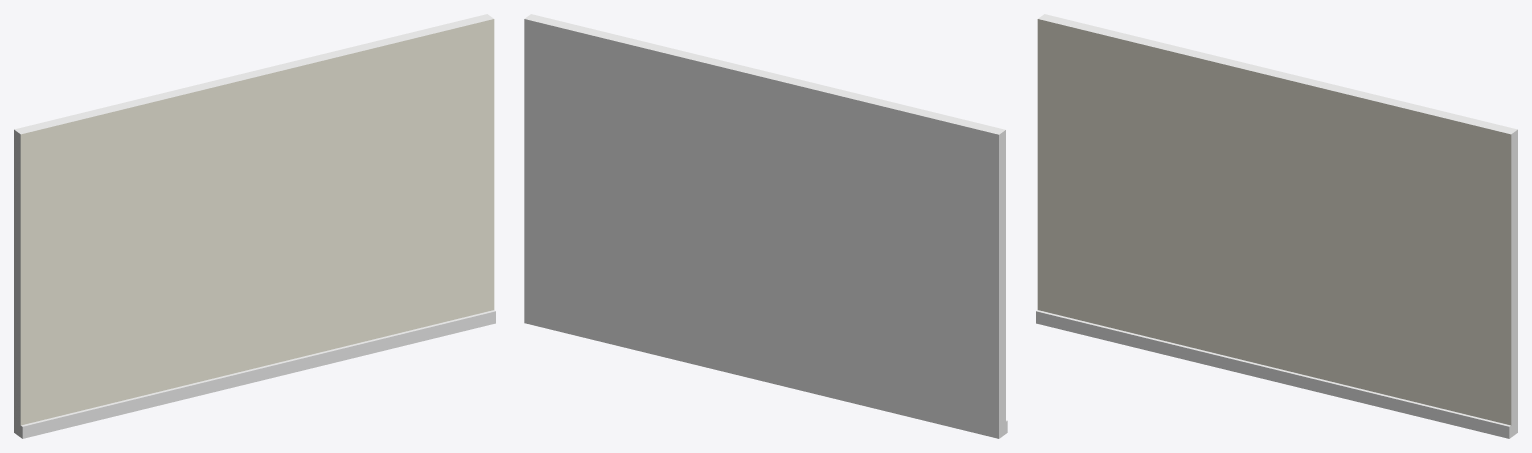
Rendered from Wall 4.FBX.
3 views of the same model, side by side, from view 1: azimuth 30°, elevation 25°; view 2: azimuth 150°, elevation 25°; view 3: azimuth 330°, elevation 25° (orthographic).
Visible parts, largest first — view 1: Wall 4; view 2: Wall 4; view 3: Wall 4.
Boxes of the visible parts, bbox=[...] form: Wall 4: bbox=[14, 14, 495, 438]; Wall 4: bbox=[524, 14, 1007, 438]; Wall 4: bbox=[1036, 14, 1517, 438].
Bounding box in the file's own units: 361 × 221 × 11.22.
Materials: 2 (1 with a texture image).
